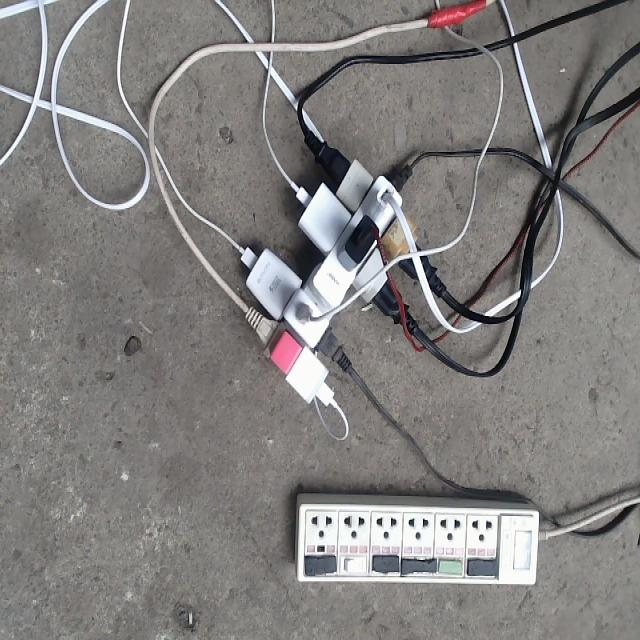-: (232, 128, 429, 412)
